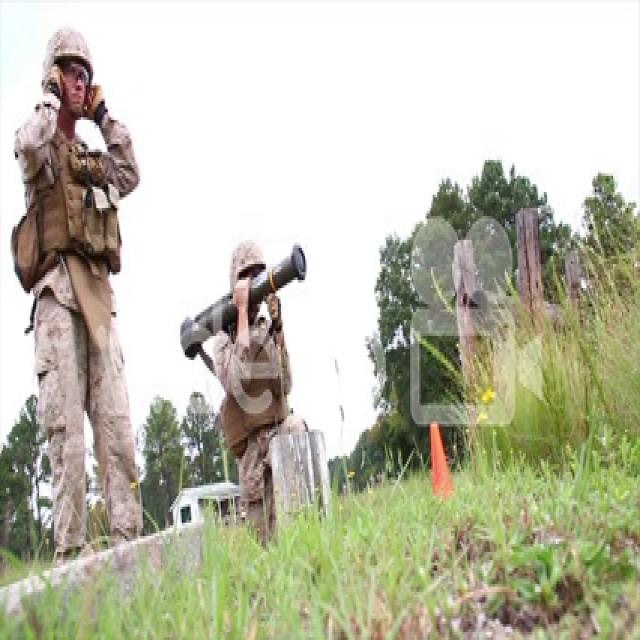bazooka: (179, 245, 311, 367)
